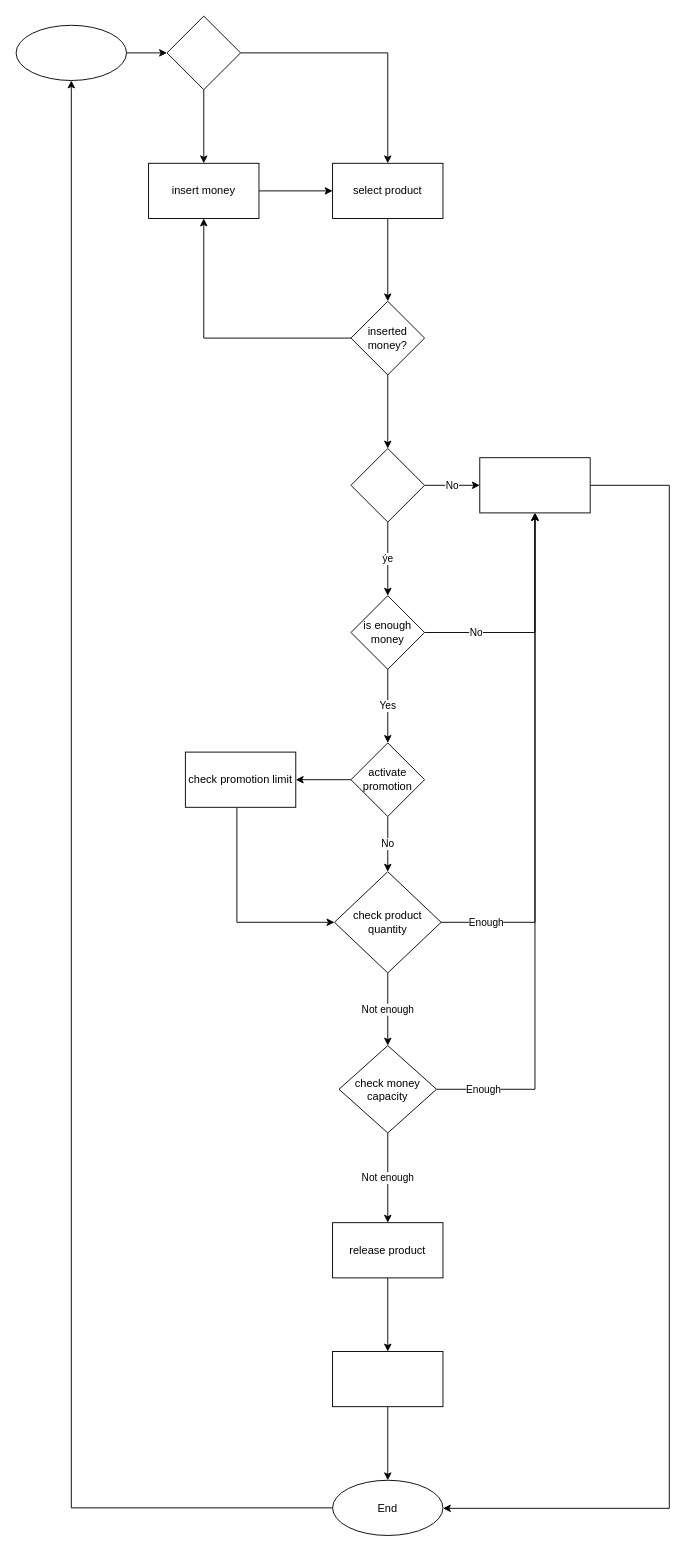
Image size: 693x1552. Some labels were removed from this diagram. The shapes that lost their labels are listed below. From the top down, each one's centre as x and y in pixels, then its label:
At point (70, 52): "Start".
At point (203, 52): "Action".
At point (387, 485): "product confirm?".
At point (534, 485): "refund money".
At point (387, 1379): "giving change".
